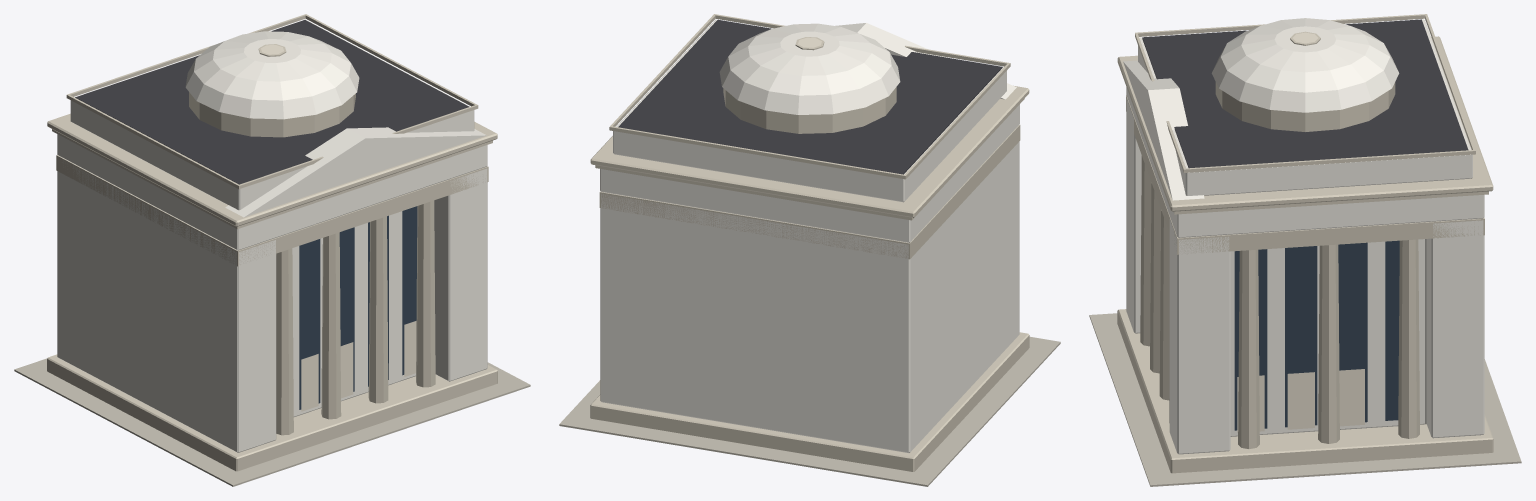
Rendered from 1-grant-avenue.glb.
3 renders of one model, left to right at view 1: azimuth 30°, elevation 25°; view 2: azimuth 150°, elevation 25°; view 3: azimuth 270°, elevation 25°, orthographic. The views are drawn at different scales.
Parts seen in each view (by area): view 1: 1-grant-avenue_body, 1-grant-avenue_night_glow; view 2: 1-grant-avenue_body; view 3: 1-grant-avenue_body, 1-grant-avenue_night_glow.
Boxes of the visible parts, box(x1,y1,x2,y2) form: 1-grant-avenue_body: box(14, 14, 530, 486); 1-grant-avenue_night_glow: box(261, 45, 416, 411); 1-grant-avenue_body: box(559, 14, 1060, 486); 1-grant-avenue_body: box(1089, 14, 1521, 486); 1-grant-avenue_night_glow: box(1237, 32, 1364, 432).
Size of the model in its own units: 35.71 by 30.22 by 33.61.
